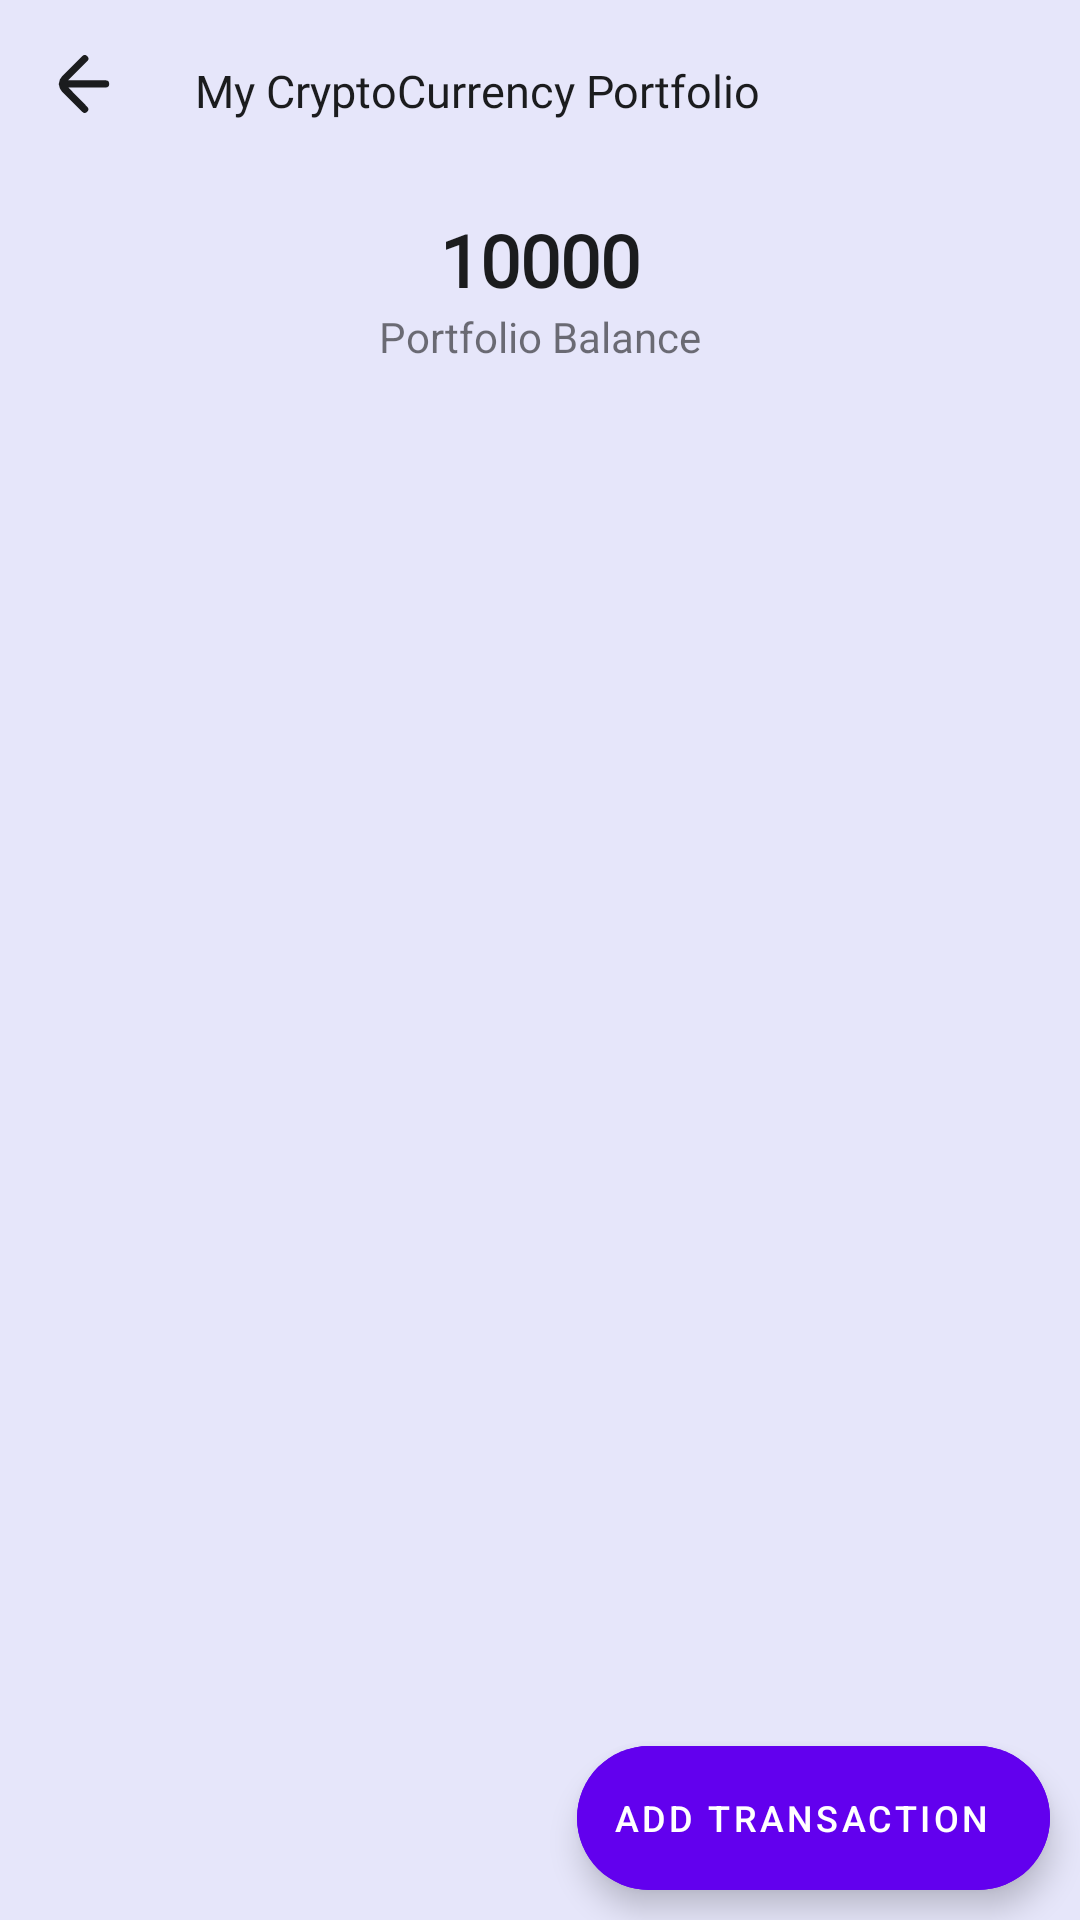

Icon click points for this 1080px×1920px phone screenshot, format (x=x, y=y):
back arrow: (x=84, y=84)
